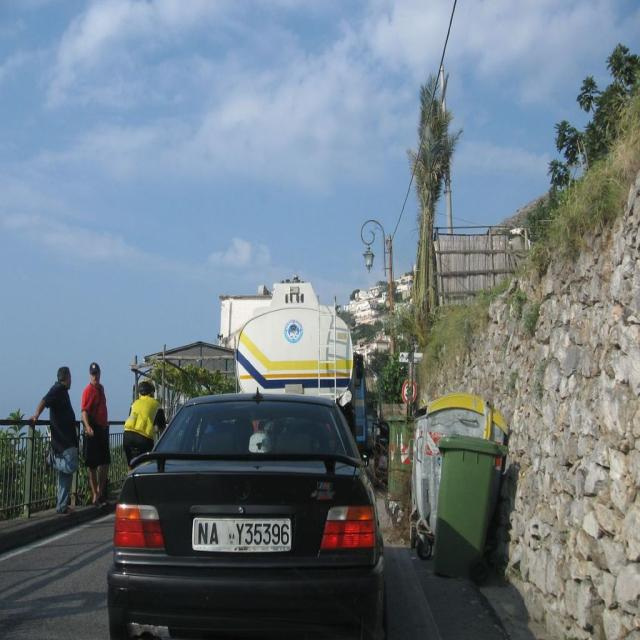car: (108, 391, 381, 622)
